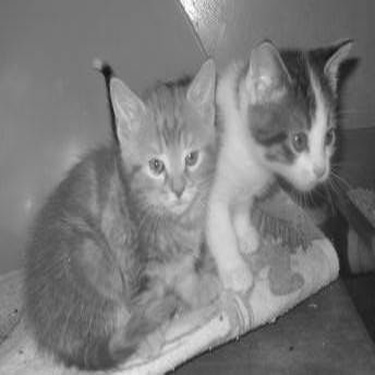cat: (26, 55, 215, 369), (209, 34, 356, 296)
